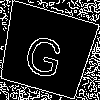G: (21, 25, 68, 81)
